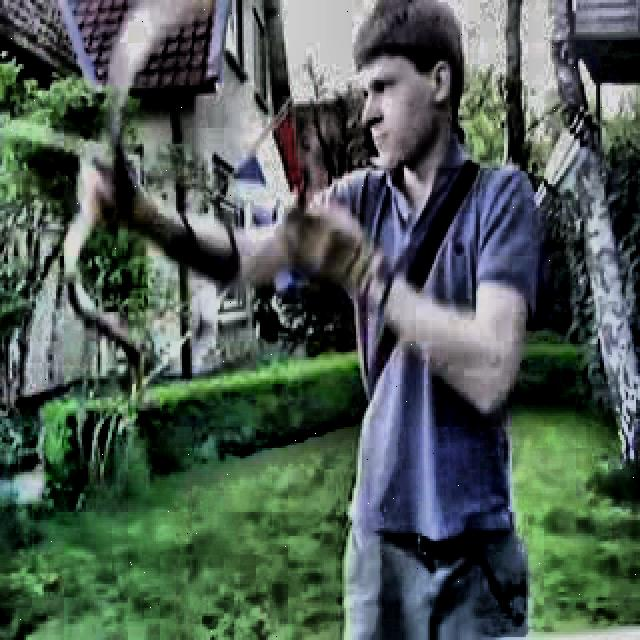P: (0, 11, 634, 639)
